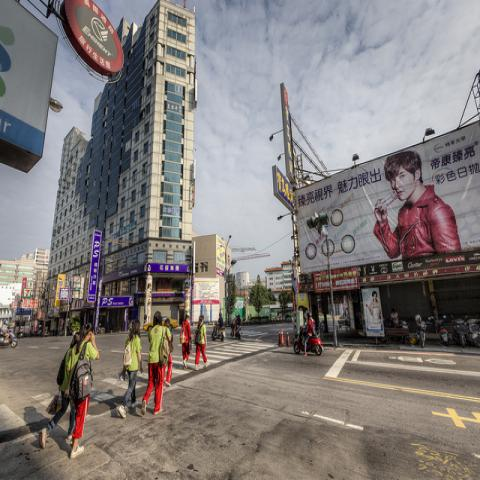car: (144, 315, 177, 332)
motorcycle: (211, 316, 470, 348), (293, 326, 324, 356), (416, 316, 431, 348), (232, 320, 242, 340)
